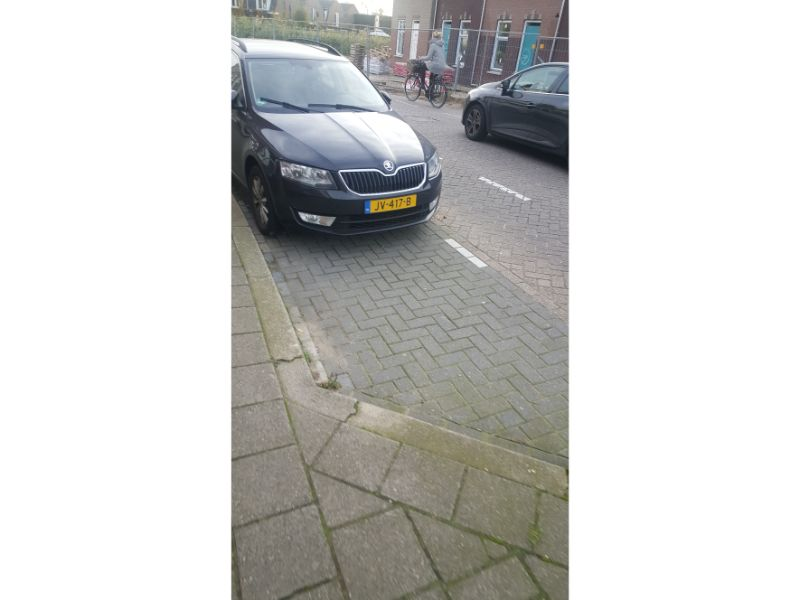kenteken: (365, 194, 418, 212)
